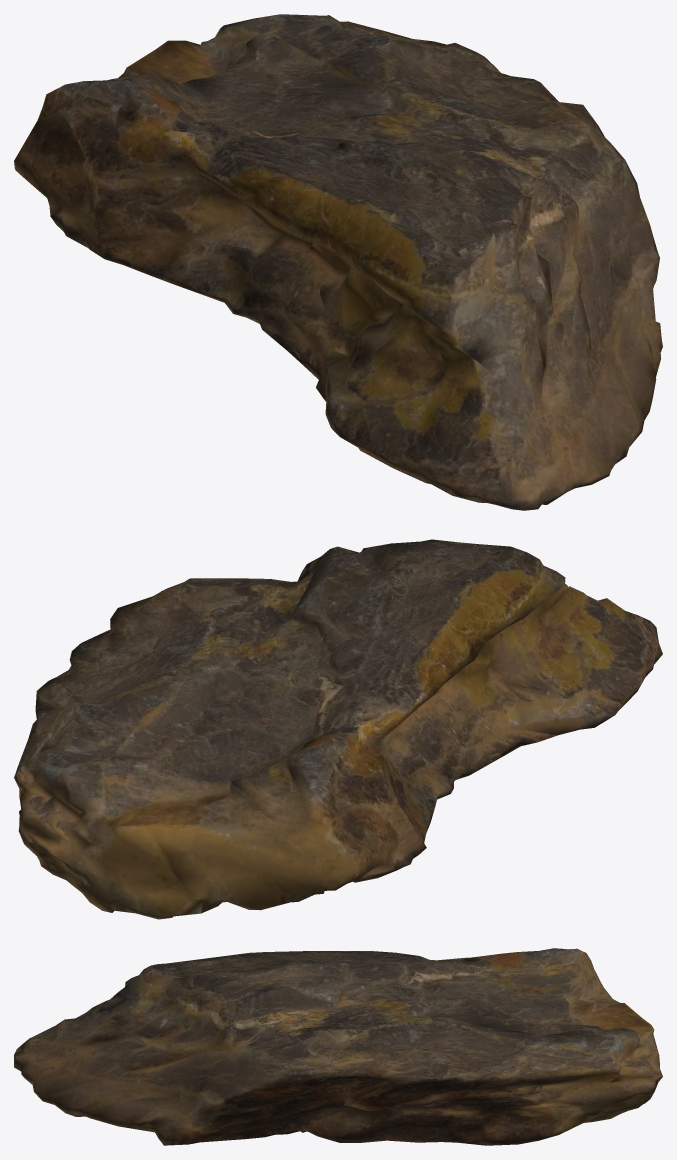
File: rock_09.glb
3 views of the same model, one above another, from view 1: azimuth 30°, elevation 25°; view 2: azimuth 150°, elevation 25°; view 3: azimuth 270°, elevation 25° (orthographic). The views are drawn at different scales.
Visible parts, largest first — view 1: rock_09_LOD0; view 2: rock_09_LOD0; view 3: rock_09_LOD0.
Part boxes in pixels (box(x1,y1,x2,y2)): rock_09_LOD0: box(14, 14, 662, 510); rock_09_LOD0: box(14, 539, 662, 919); rock_09_LOD0: box(14, 948, 662, 1145).
Bounding box in the file's own units: 0.0739 × 0.0328 × 0.1446.
1 material, 1 textured.
